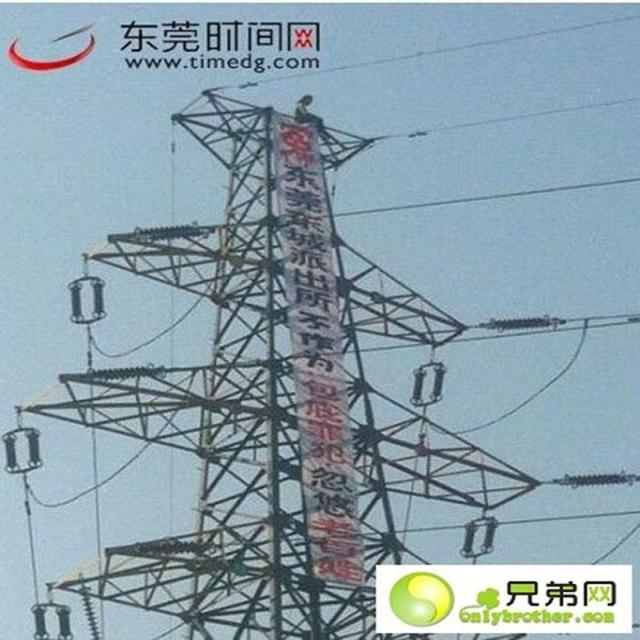non-critical vegetation: (108, 86, 426, 626)
